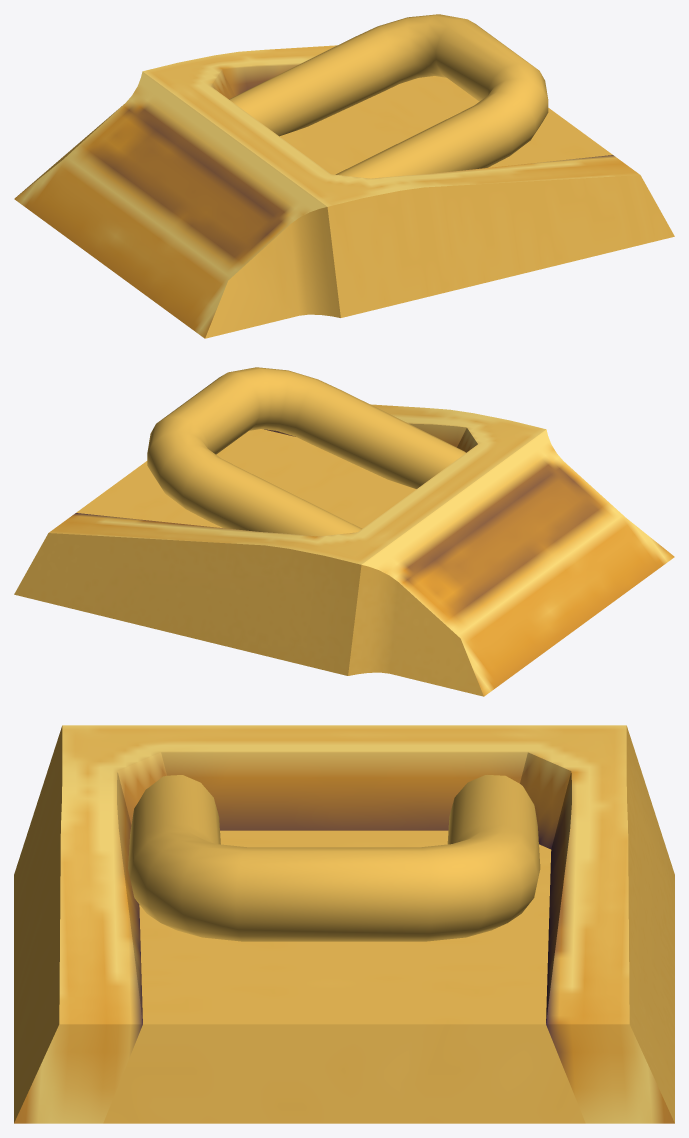
File: Prop_Clamp.gltf
3 views of the same model, one above another, from view 1: azimuth 30°, elevation 25°; view 2: azimuth 150°, elevation 25°; view 3: azimuth 270°, elevation 25° (orthographic). The views are drawn at different scales.
Parts seen in each view (by area): view 1: Prop_Clamp; view 2: Prop_Clamp; view 3: Prop_Clamp.
Part boxes in pixels (x1=…): Prop_Clamp: x1=14, y1=14, x2=674, y2=338; Prop_Clamp: x1=14, y1=367, x2=674, y2=696; Prop_Clamp: x1=14, y1=725, x2=674, y2=1123.
Bounding box in the file's own units: 0.5605 × 0.1617 × 0.4602.
2 materials, 2 textured.
